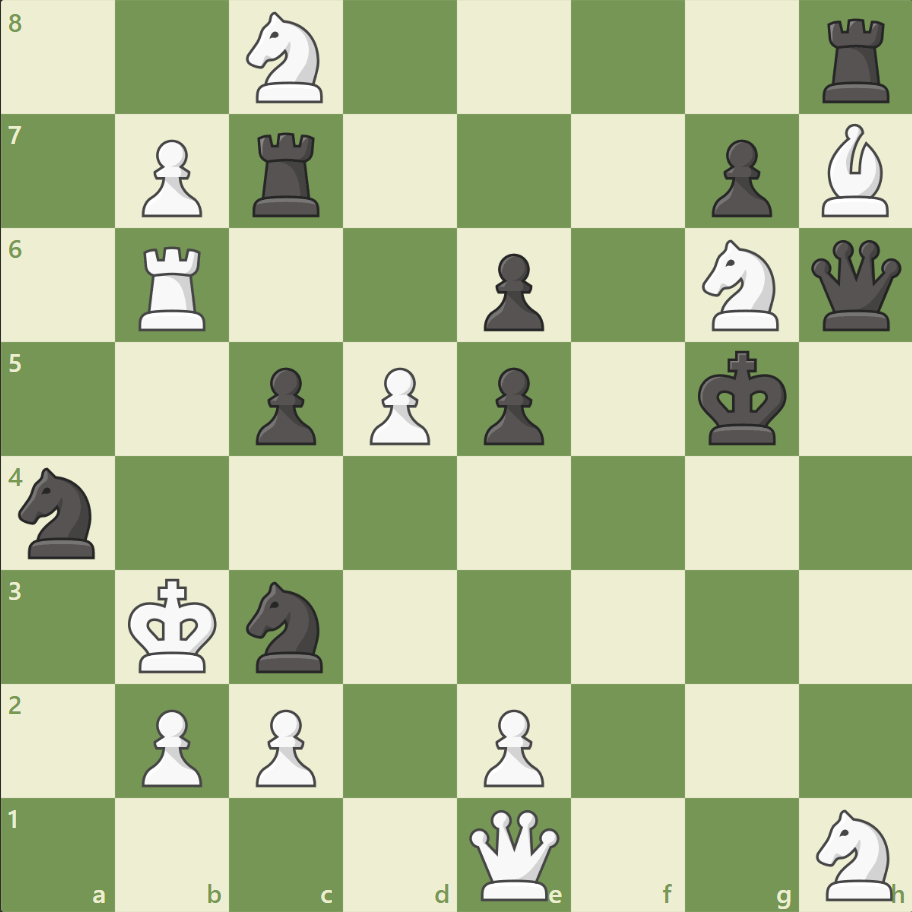B: (812, 120, 896, 222)
K: (124, 571, 224, 679)
N: (238, 7, 335, 110), (692, 234, 789, 337), (806, 802, 903, 904)
P: (133, 132, 208, 223), (133, 700, 208, 791), (247, 700, 322, 791), (474, 700, 549, 791), (361, 359, 435, 450)
Q: (464, 804, 563, 903)
R: (133, 239, 215, 336)
k: (692, 344, 792, 452)
n: (11, 461, 108, 564), (238, 575, 335, 677)
p: (701, 132, 776, 223), (474, 246, 549, 337), (247, 359, 322, 450), (474, 359, 549, 450)
q: (805, 236, 904, 335)
r: (814, 12, 897, 109), (246, 125, 329, 222)
